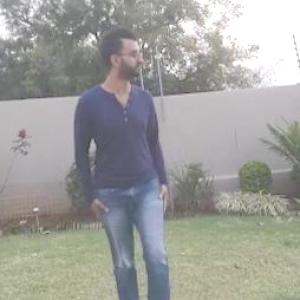follow: (74, 22, 178, 299)
